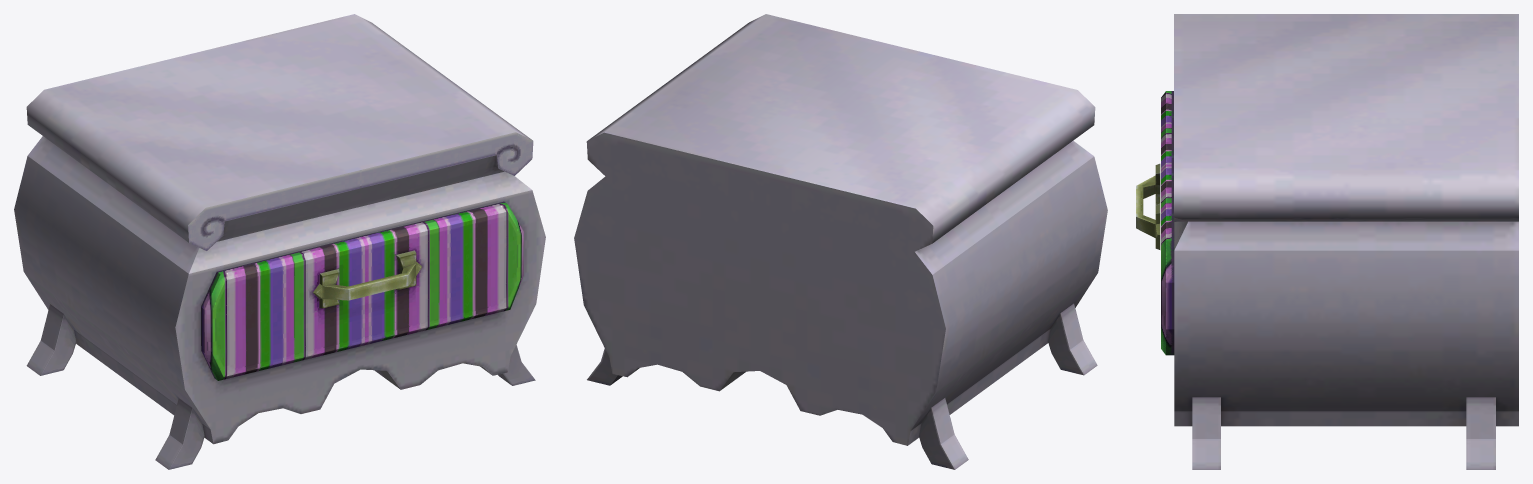
Rendered from furni_0200608_02.FBX.
The picture shows the model from 3 angles, left to right: view 1: azimuth 30°, elevation 25°; view 2: azimuth 150°, elevation 25°; view 3: azimuth 270°, elevation 25°; orthographic projection. The views are drawn at different scales.
Visible parts, largest first — view 1: furni_0200608_02; view 2: furni_0200608_02; view 3: furni_0200608_02.
Part boxes in pixels (x1,y1,x2,y2): furni_0200608_02: (14,14,545,469); furni_0200608_02: (574,14,1107,469); furni_0200608_02: (1136,14,1518,469).
Size of the model in its own units: 74.18 by 50 by 62.13.
Materials: 1 (1 with a texture image).
